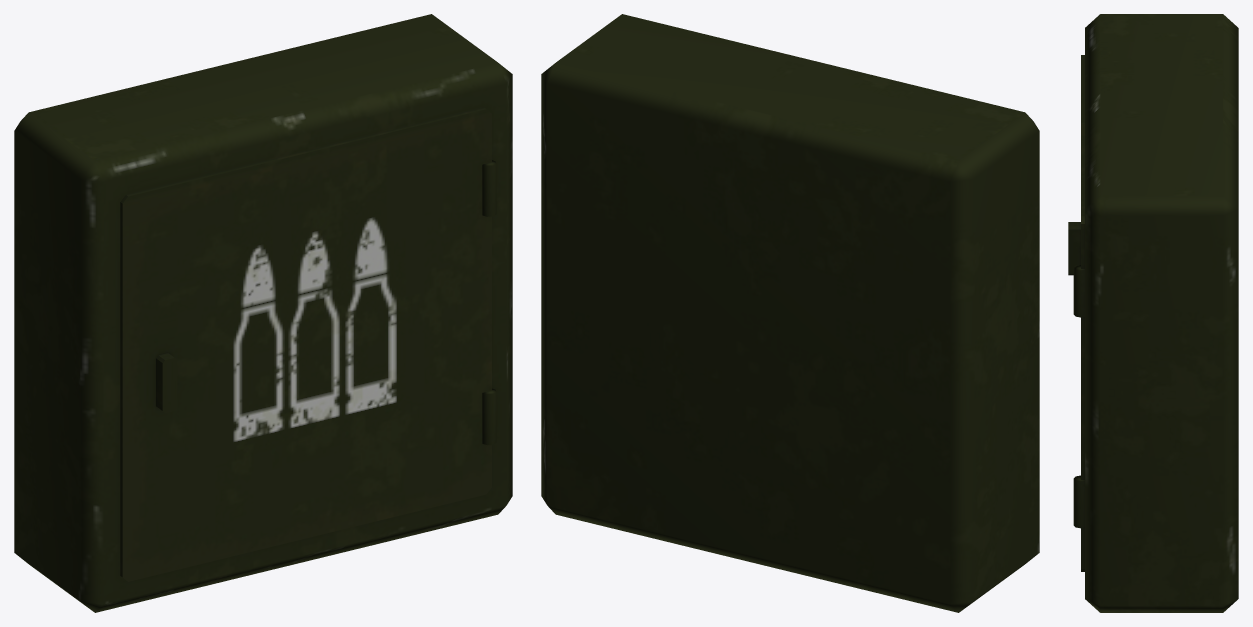
The model's file is Case.fbx.
3 views of the same model, side by side, from view 1: azimuth 30°, elevation 25°; view 2: azimuth 150°, elevation 25°; view 3: azimuth 270°, elevation 25° (orthographic). The views are drawn at different scales.
Visible parts, largest first — view 1: Case; view 2: Case; view 3: Case.
Part boxes in pixels (box(x1,y1,x2,y2)): Case: box(14, 14, 512, 612); Case: box(541, 14, 1039, 612); Case: box(1068, 14, 1238, 612).
Bounding box in the file's own units: 72 × 72 × 26.58.
